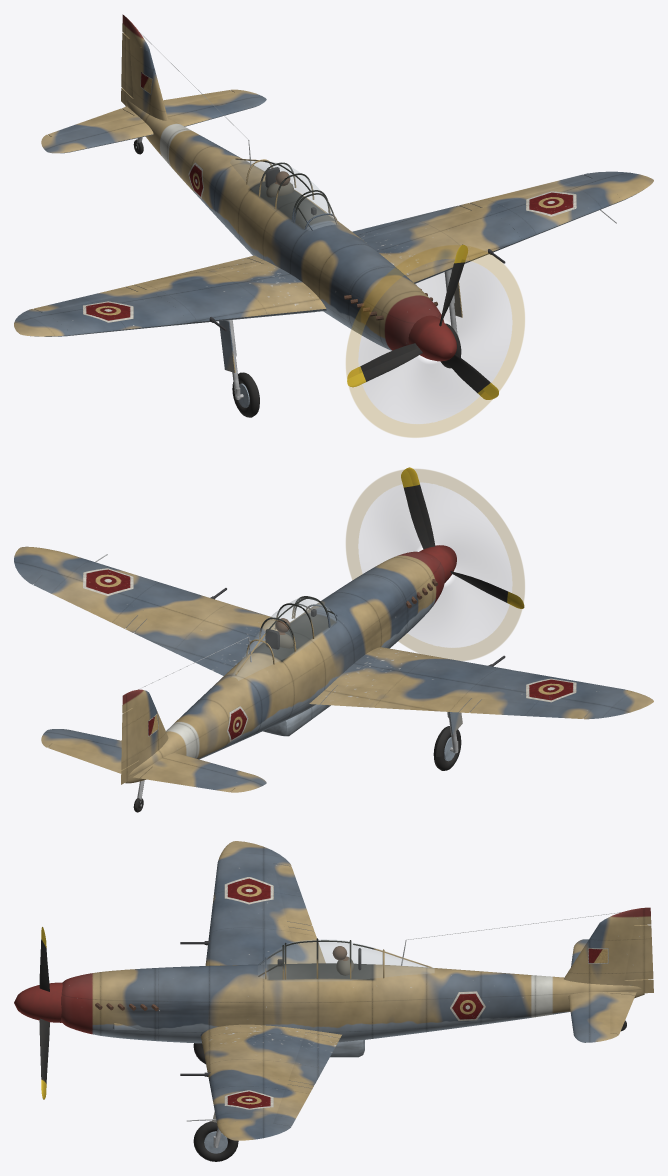
File: fighter_t1_game_enemy.glb
3 renders of one model, top to bottom at view 1: azimuth 30°, elevation 25°; view 2: azimuth 150°, elevation 25°; view 3: azimuth 270°, elevation 25°, orthographic. The views are drawn at different scales.
Parts seen in each view (by area): view 1: fuselage, prop_disc, wing_R, wing_L, stabilizer, prop_blades, canopy, prop_spinner, flap_R, flap_L, elevator, decal_wing_L_top (+4 smaller); view 2: fuselage, prop_disc, wing_R, wing_L, stabilizer, flap_R, flap_L, canopy, prop_blades, elevator, aileron_L, aileron_R (+6 smaller); view 3: fuselage, wing_L, wing_R, canopy, stabilizer, flap_L, prop_spinner, rudder, aileron_R, wheel_main_L, prop_blades, decal_wing_R_top (+5 smaller).
Part boxes in pixels (x1,y1,x2,y2): fuselage: (121,14,444,350); prop_disc: (346,245,524,437); wing_R: (14,255,326,336); wing_L: (362,171,653,283); stabilizer: (41,89,266,153); prop_blades: (347,244,498,399); canopy: (258,162,328,223); prop_spinner: (408,315,456,361); flap_R: (134,257,262,289); flap_L: (352,205,471,239); elevator: (48,90,234,136); decal_wing_L_top: (526,191,576,216); fuselage: (121,551,444,784); prop_disc: (346,469,524,660); wing_R: (309,647,653,719); wing_L: (14,546,277,657); stabilizer: (41,729,266,792); flap_R: (320,685,471,712); flap_L: (134,619,242,675); canopy: (259,596,330,653); prop_blades: (401,467,524,608); elevator: (48,743,234,792); aileron_L: (33,575,137,628); aileron_R: (470,699,592,718); fuselage: (61,907,653,1057); wing_L: (180,1024,341,1140); wing_R: (180,841,314,965); canopy: (284,938,351,980); stabilizer: (568,939,636,1042); flap_L: (288,1032,339,1084); prop_spinner: (14,982,62,1022); rudder: (625,925,653,980); aileron_R: (273,863,312,925); wheel_main_L: (193,1121,238,1161); prop_blades: (39,927,49,1099); decal_wing_R_top: (224,877,273,904).
Size of what is drawn, in the model's own units: 10.7 by 3.44 by 9.66.
6 materials, 5 textured.
